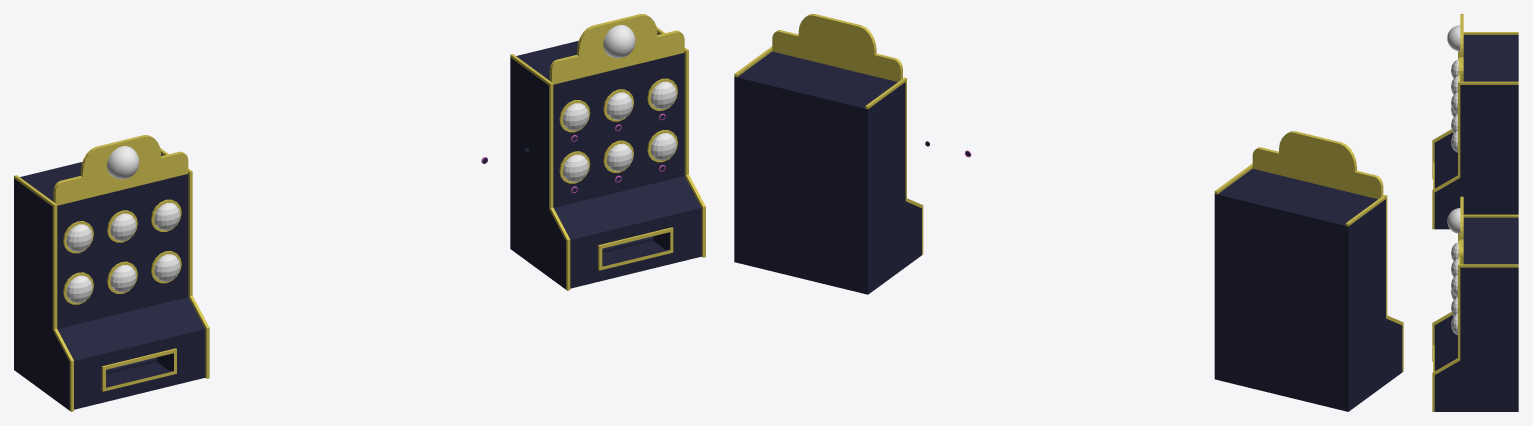
File: minigolfvendingmachine.fbx
3 views of the same model, side by side, from view 1: azimuth 30°, elevation 25°; view 2: azimuth 150°, elevation 25°; view 3: azimuth 270°, elevation 25° (orthographic). The views are drawn at different scales.
Visible parts, largest first — view 1: MiniGolfVendingMachineLowerPolyNoButtons, MiniGolfVendingMachineLowerPoly; view 2: MiniGolfVendingMachineLowerPolyNoButtons, MiniGolfVendingMachineLowerPoly; view 3: MiniGolfVendingMachineLowerPoly, MiniGolfVendingMachineLowerPolyNoButtons.
Boxes of the visible parts, <box> form: MiniGolfVendingMachineLowerPolyNoButtons: <box>14,135,209,411</box>; MiniGolfVendingMachineLowerPoly: <box>510,14,705,290</box>; MiniGolfVendingMachineLowerPolyNoButtons: <box>1214,131,1403,411</box>; MiniGolfVendingMachineLowerPoly: <box>734,14,923,294</box>; MiniGolfVendingMachineLowerPoly: <box>1432,196,1518,411</box>; MiniGolfVendingMachineLowerPolyNoButtons: <box>1432,14,1518,229</box>.
Size of the model in its own units: 605 by 218 by 94.42.
